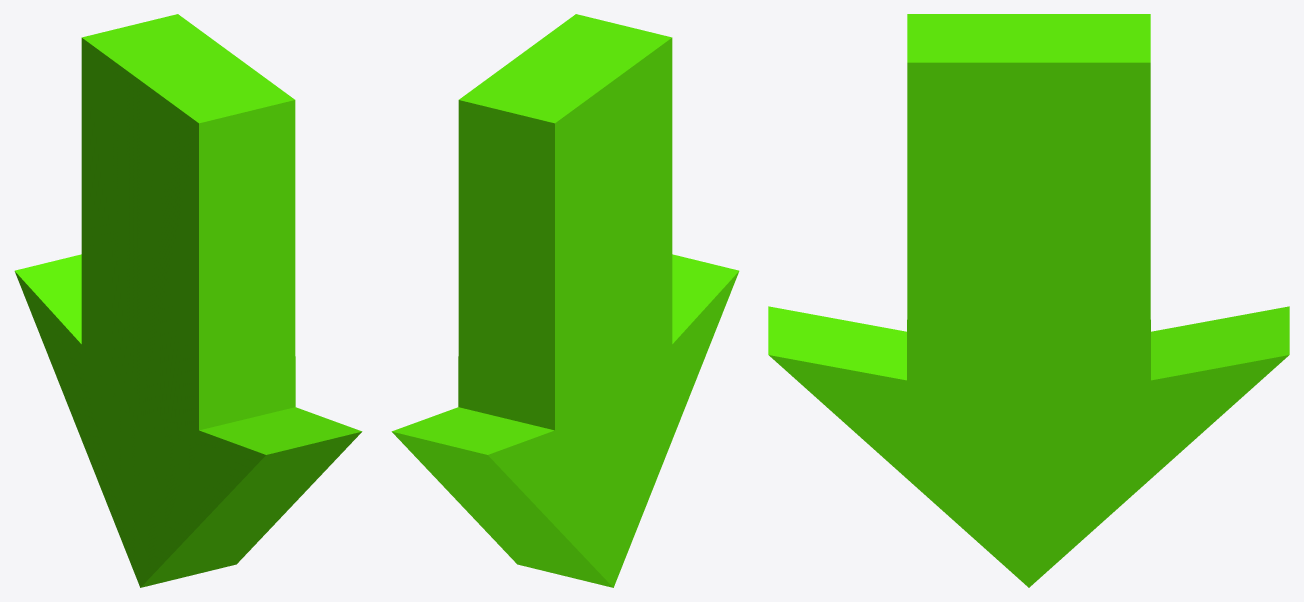
The model's file is green_arrow.fbx.
3 renders of one model, left to right at view 1: azimuth 30°, elevation 25°; view 2: azimuth 150°, elevation 25°; view 3: azimuth 270°, elevation 25°, orthographic. The views are drawn at different scales.
Visible parts, largest first — view 1: green_arrow; view 2: green_arrow; view 3: green_arrow.
Part boxes in pixels (box(x1,y1,x2,y2)): green_arrow: box(14, 14, 362, 587); green_arrow: box(391, 14, 739, 587); green_arrow: box(768, 14, 1289, 587).
Size of the model in its own units: 0.2177 by 1.1 by 0.9861.
